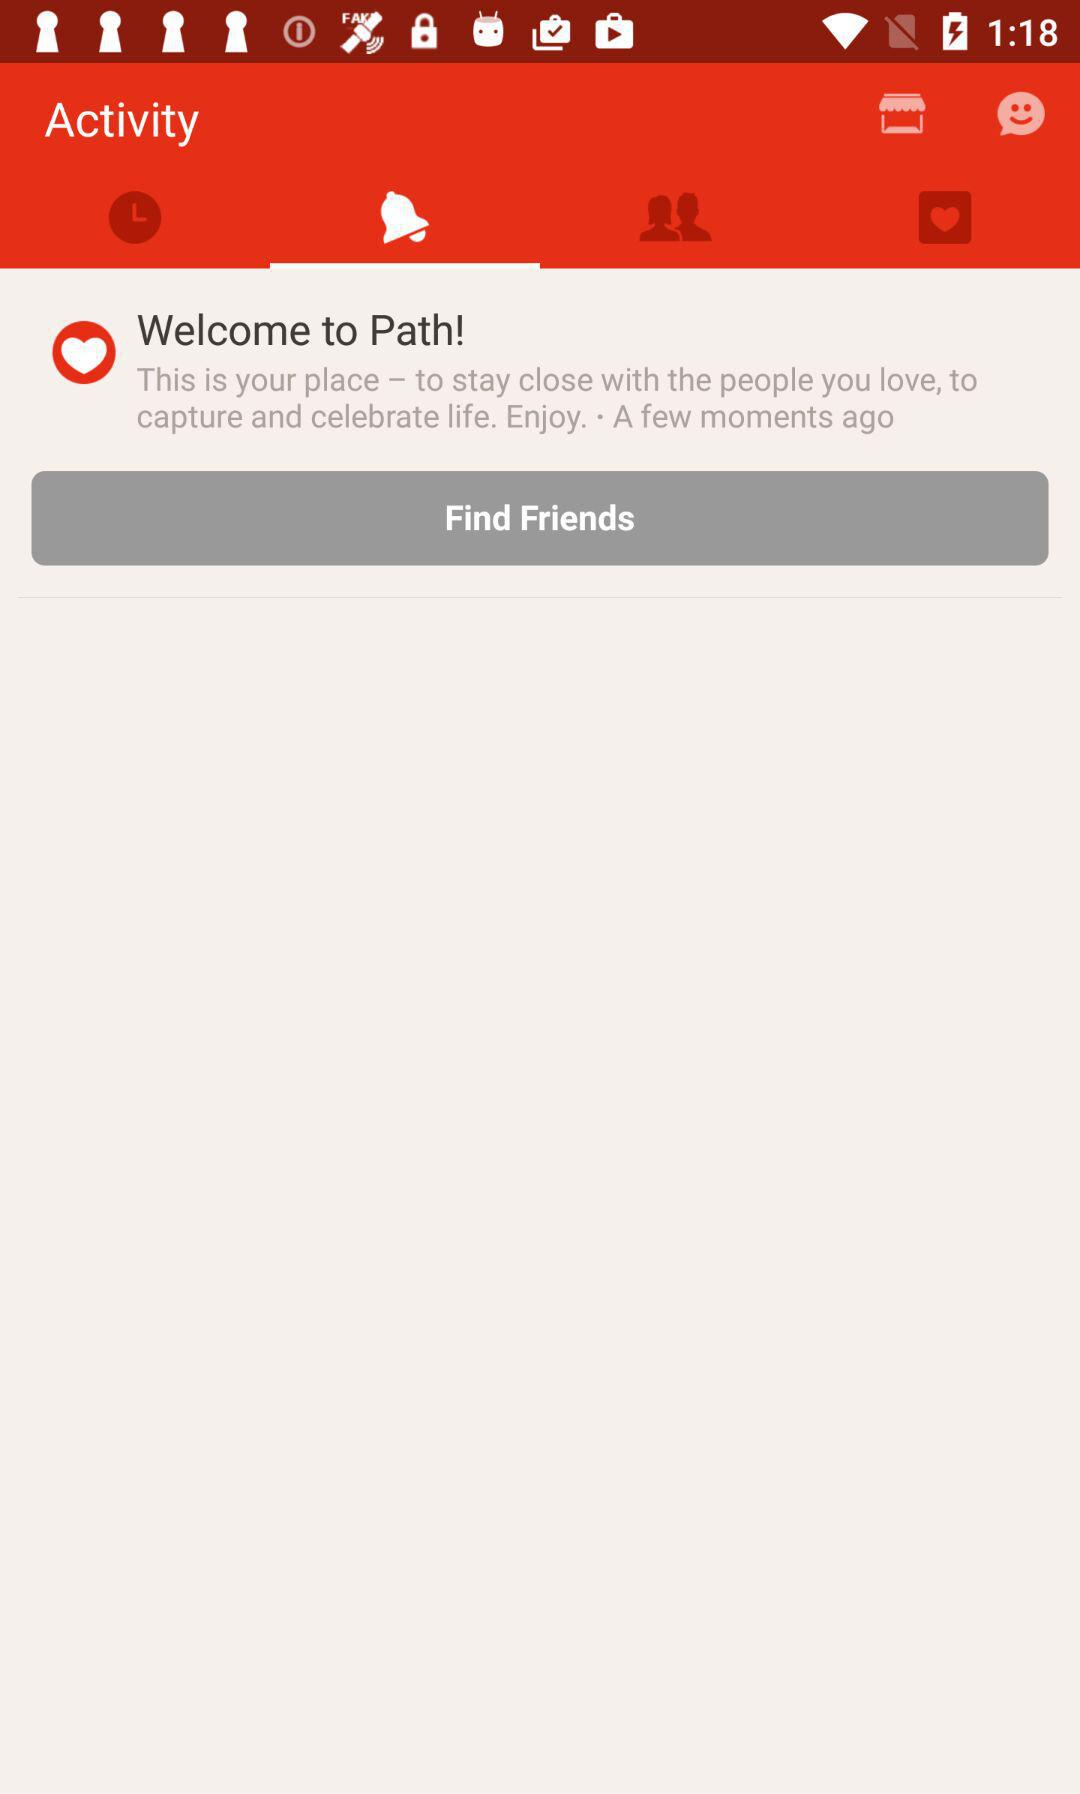Icon: (53, 322, 117, 386), (108, 191, 163, 246), (919, 191, 972, 246), (380, 191, 430, 245), (995, 92, 1045, 138)
Image: (641, 192, 712, 242), (878, 94, 928, 136)
Text: (136, 366, 978, 436), (137, 313, 464, 349), (45, 103, 201, 150)
TextButton: (32, 470, 1051, 566)
UpperTaskBar: (1, 1, 1080, 64)
